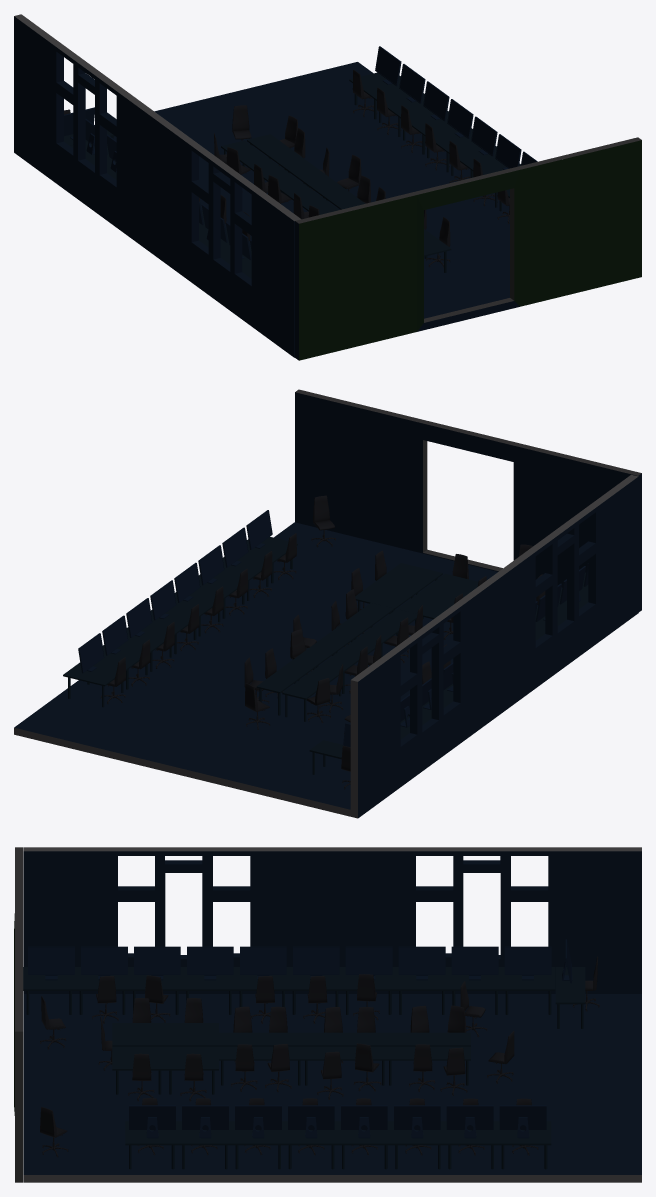
The model's file is roomDes.gltf.
The picture shows the model from 3 angles, top to bottom: view 1: azimuth 30°, elevation 25°; view 2: azimuth 150°, elevation 25°; view 3: azimuth 270°, elevation 25°; orthographic projection. The views are drawn at different scales.
Visible parts, largest first — view 1: wall_des_center, wall_des_right, floor_des, desks_des_center, mac_des_left, desks_des_left, chair.026, mac_des, desk_des_right, chair.024, desk2_des_center; view 2: floor_des, wall_des_right, wall_des_center, desks_des_center, desks_des_left, mac_des_left, chair.026, desk2_des_center, desk2_des_center2, mac_des, desk_des_right, chair.008; view 3: floor_des, wall_des_right, mac_des, mac_des_left, desk_des_right, desks_des_left, desks_des_center, wall_des_center, desk2_des_center2, desk2_des_center, chair.026, desk_des_prof (+17 smaller).
Part boxes in pixels (x1,y1,x2,y2): wall_des_center: (295,137,641,360); wall_des_right: (14,14,300,357); floor_des: (113,62,509,318); desks_des_center: (221,134,365,214); mac_des_left: (375,46,537,169); desks_des_left: (349,72,520,211); chair.026: (352,69,509,223); mac_des: (85,119,251,260); desk_des_right: (70,141,251,278); chair.024: (232,105,251,140); desk2_des_center: (424,229,451,272); floor_des: (14,522,562,816); wall_des_right: (350,474,638,818); wall_des_center: (295,389,641,612); desks_des_center: (256,603,417,721); desks_des_left: (63,537,297,707); mac_des_left: (78,510,272,673); chair.026: (100,533,296,703); desk2_des_center: (355,563,442,612); desk2_des_center2: (397,573,478,619); mac_des: (400,563,588,727); desk_des_right: (400,572,588,739); chair.008: (311,495,335,547); floor_des: (23,994,641,1182); wall_des_right: (23,847,641,993); mac_des: (28,946,551,980); mac_des_left: (129,1105,546,1138); desk_des_right: (23,967,555,1014); desks_des_left: (125,1121,551,1169); desks_des_center: (219,1032,470,1085); wall_des_center: (14,847,23,1182); desk2_des_center2: (112,1023,218,1046); desk2_des_center: (112,1046,218,1094); chair.026: (137,1098,538,1155); desk_des_prof: (555,967,585,1028).
Bounding box in the file's own units: 41.1 × 15.65 × 58.97.
